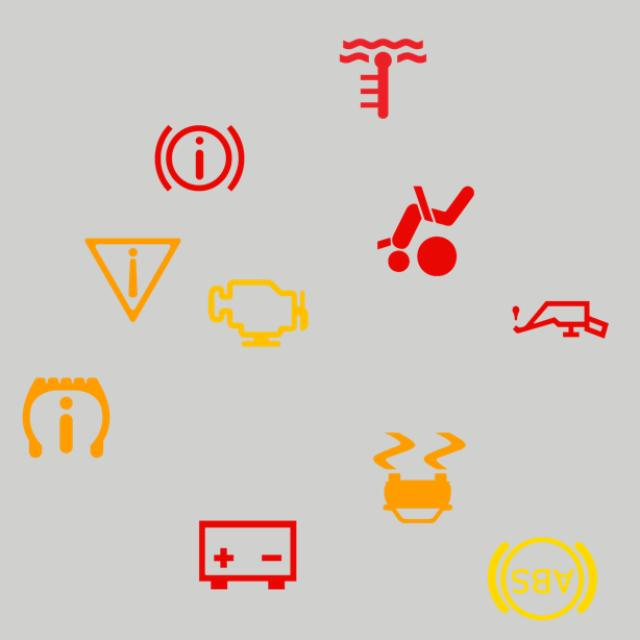Anti Lock Braking System: (482, 519, 602, 639)
Braking System Issue: (140, 98, 260, 218)
Charging System Issue: (188, 495, 308, 615)
Check Engine: (198, 253, 318, 373)
Electronic Stability Problem -ESP-: (360, 418, 480, 538)
Engine Overheating Warning Light: (323, 18, 443, 138)
Low Engine Oil Warning Light: (500, 260, 620, 380)
Low Tire Pressure Warning Light: (6, 358, 126, 478)
Master warning light: (73, 220, 193, 340)
SRS-Airbag: (366, 171, 486, 291)
